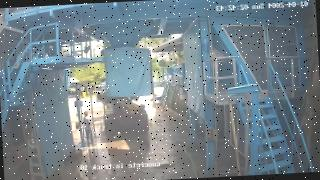cement_mixer_truck: (96, 78, 149, 137)
